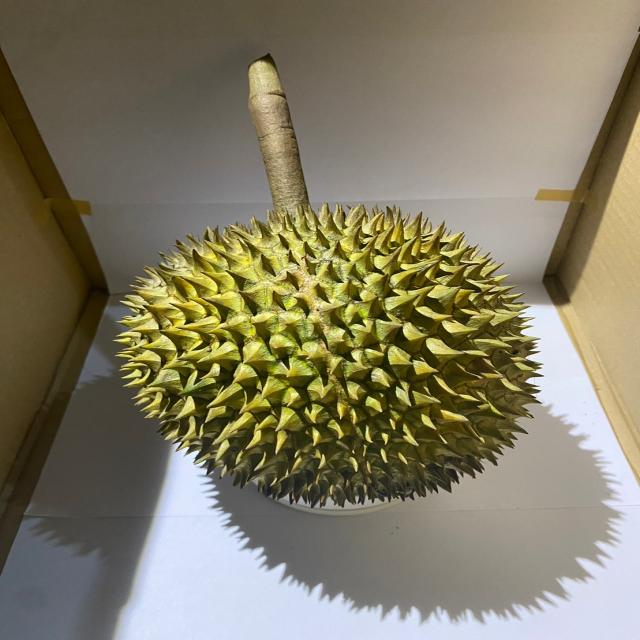immature: (117, 200, 542, 510)
